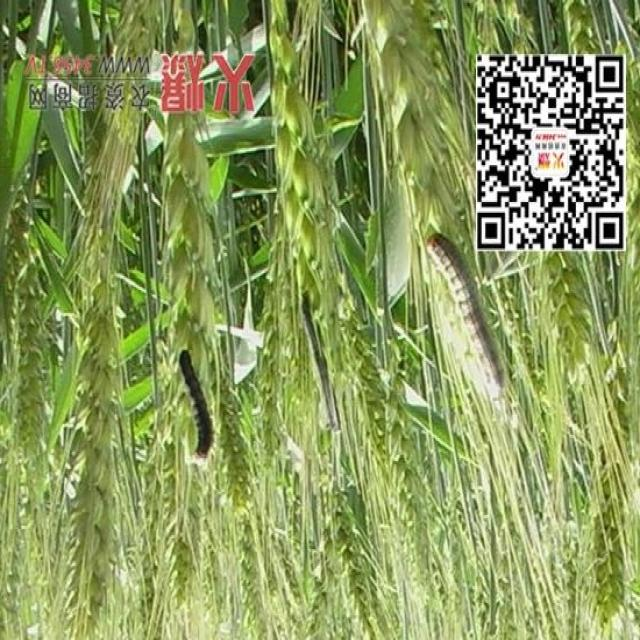army worm: (415, 227, 507, 401), (292, 292, 345, 435), (167, 343, 217, 465)
